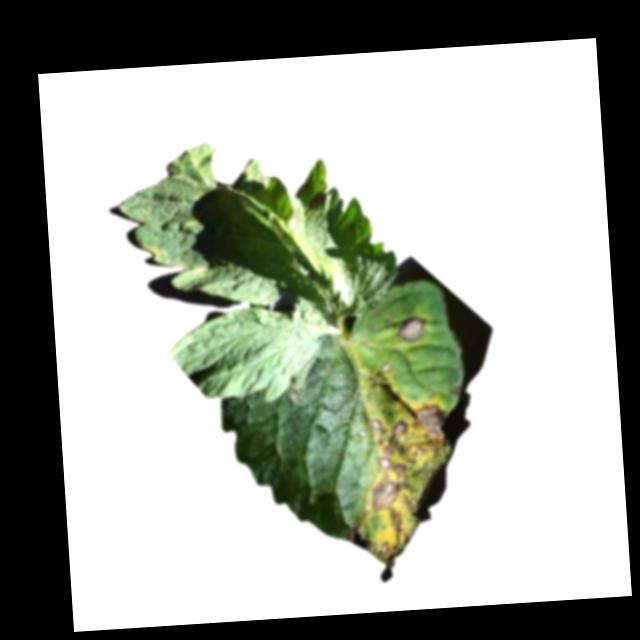Early_blight: (339, 401, 456, 566), (396, 316, 428, 343), (368, 362, 394, 391), (307, 190, 326, 211)
